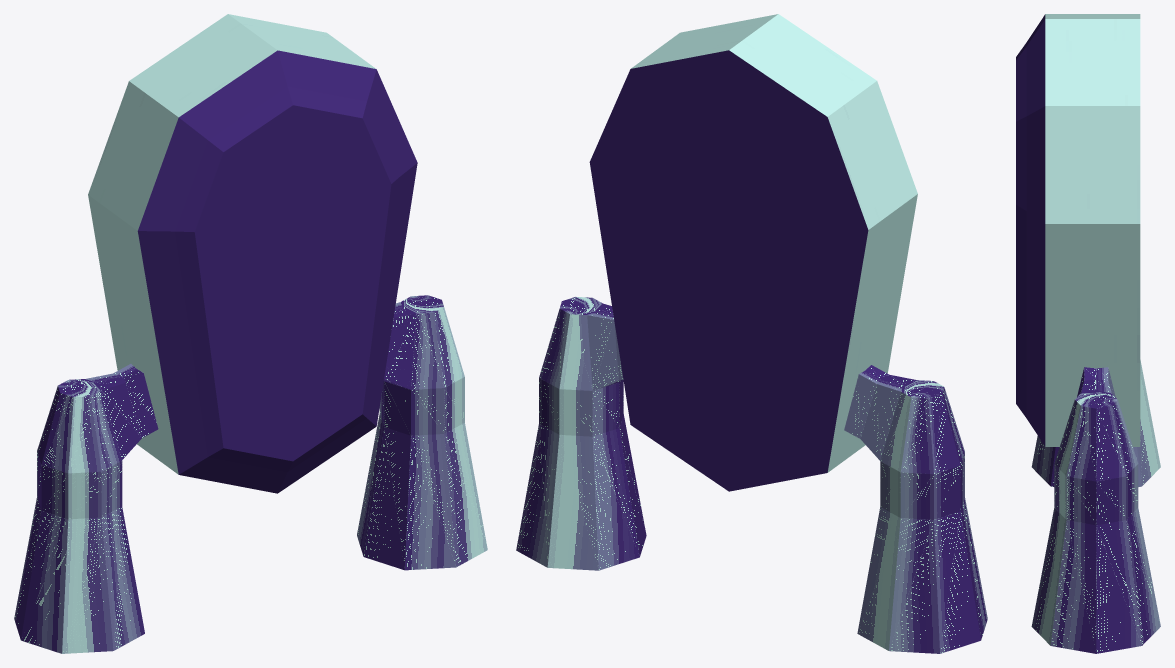
File: jetpack.fbx
3 renders of one model, left to right at view 1: azimuth 30°, elevation 25°; view 2: azimuth 150°, elevation 25°; view 3: azimuth 270°, elevation 25°, orthographic. The views are drawn at different scales.
Parts seen in each view (by area): view 1: jetpack; view 2: jetpack; view 3: jetpack.
Boxes of the visible parts, box(x1,y1,x2,y2) form: jetpack: box(14, 14, 487, 653); jetpack: box(516, 14, 987, 653); jetpack: box(1016, 14, 1160, 653).
Size of the model in its own units: 217 by 249 by 61.99.
1 material, 1 textured.
